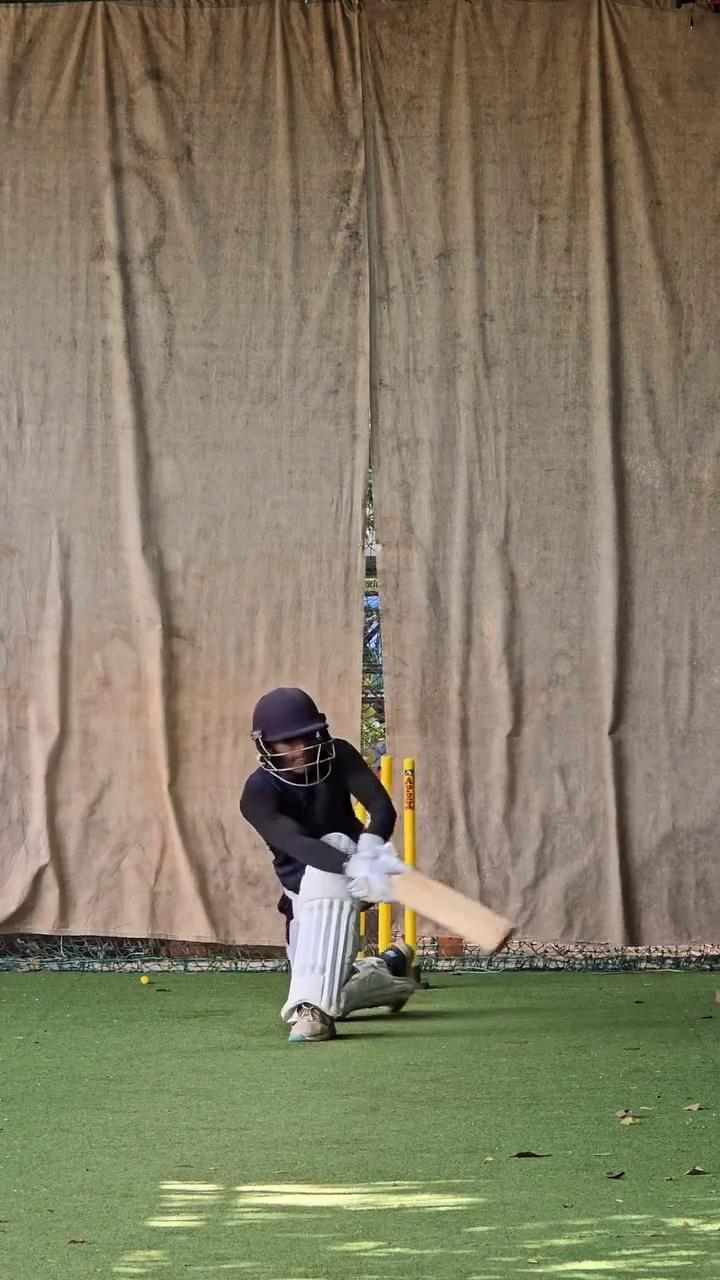bat: (394, 869, 521, 960)
